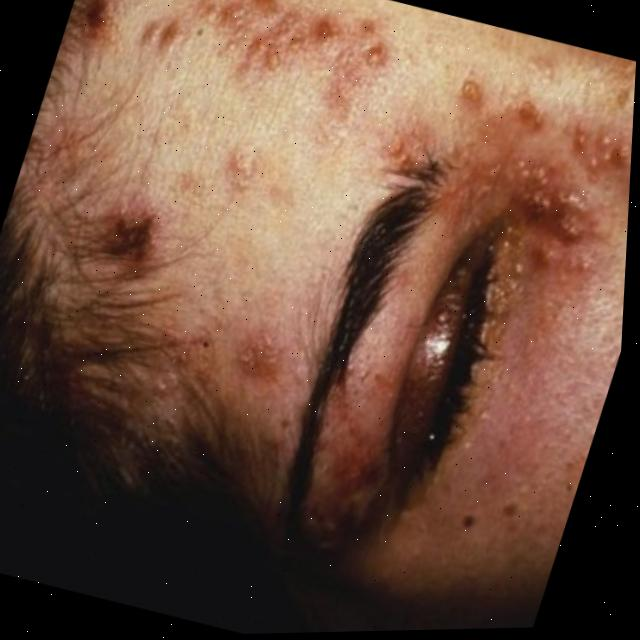Shingles: (372, 36, 637, 257), (123, 0, 402, 140), (100, 200, 154, 258), (232, 333, 280, 379)
